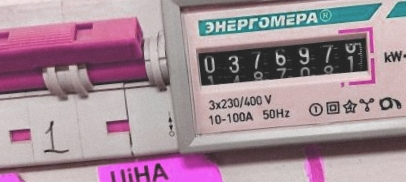0: (202, 53, 217, 74)
1: (344, 53, 357, 72)
3: (226, 52, 241, 74)
6: (272, 44, 287, 67)
7: (248, 48, 264, 70), (320, 41, 334, 65)
9: (296, 44, 310, 66)
screen: (187, 21, 383, 104)
